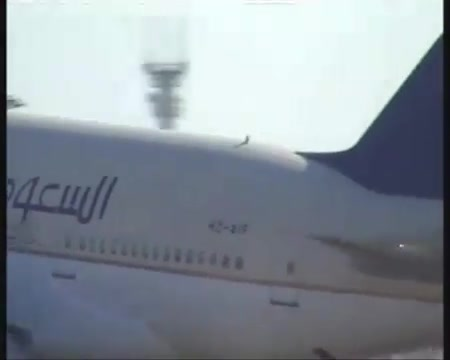aeroplane: (8, 33, 446, 360)
